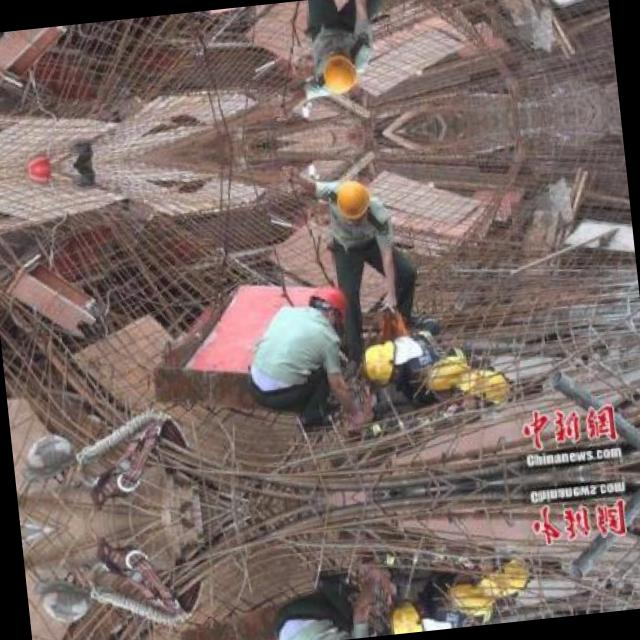helmet: (474, 540, 530, 596), (457, 368, 512, 423), (357, 337, 406, 388), (424, 352, 472, 404), (447, 567, 495, 619), (314, 50, 360, 99), (328, 174, 373, 223), (306, 284, 350, 328), (384, 598, 433, 632)
